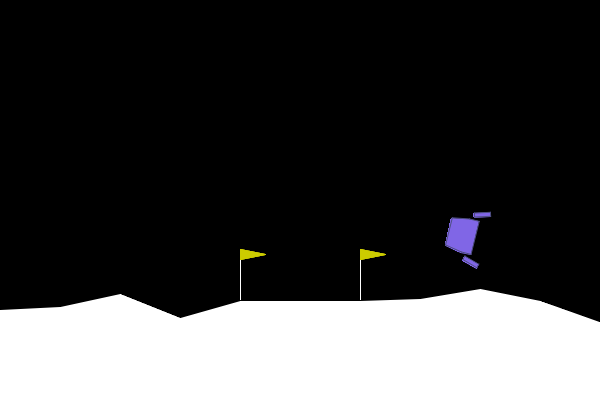lander: (439, 202, 492, 270)
